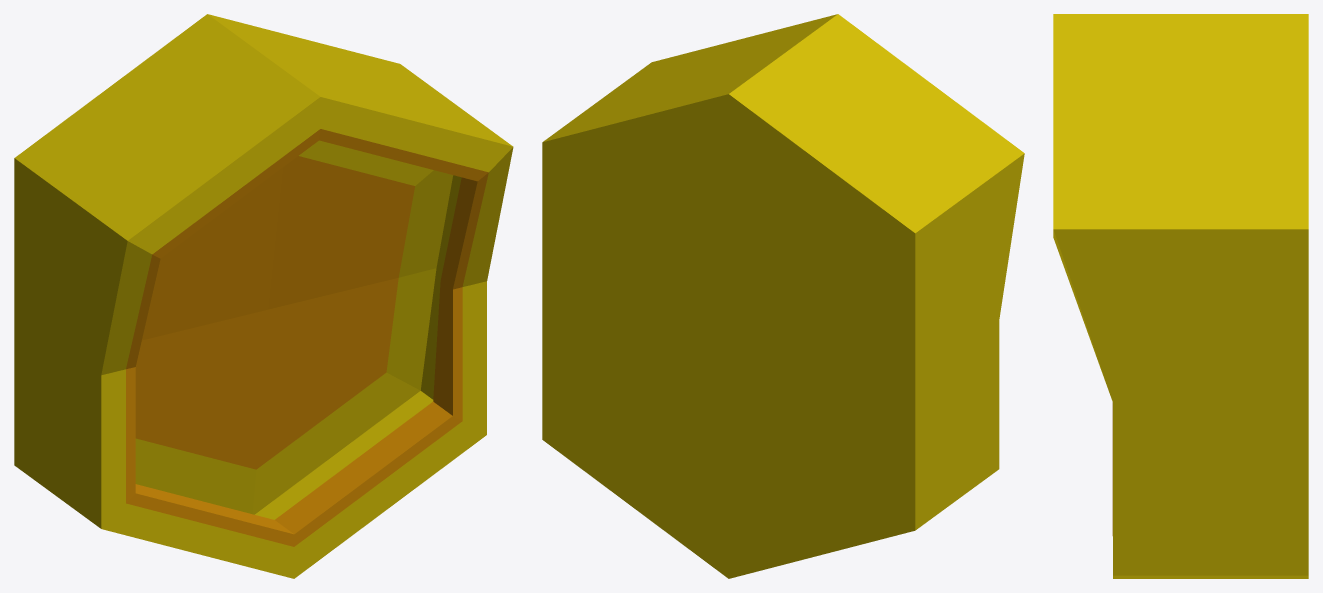
The model's file is SingleComb.fbx.
3 views of the same model, side by side, from view 1: azimuth 30°, elevation 25°; view 2: azimuth 150°, elevation 25°; view 3: azimuth 270°, elevation 25° (orthographic). The views are drawn at different scales.
Parts seen in each view (by area): view 1: Cube; view 2: Cube; view 3: Cube.
Boxes of the visible parts, bbox=[...] form: Cube: bbox=[14, 14, 513, 578]; Cube: bbox=[542, 14, 1024, 578]; Cube: bbox=[1053, 14, 1308, 578].
Size of the model in its own units: 263 by 326 by 133.
